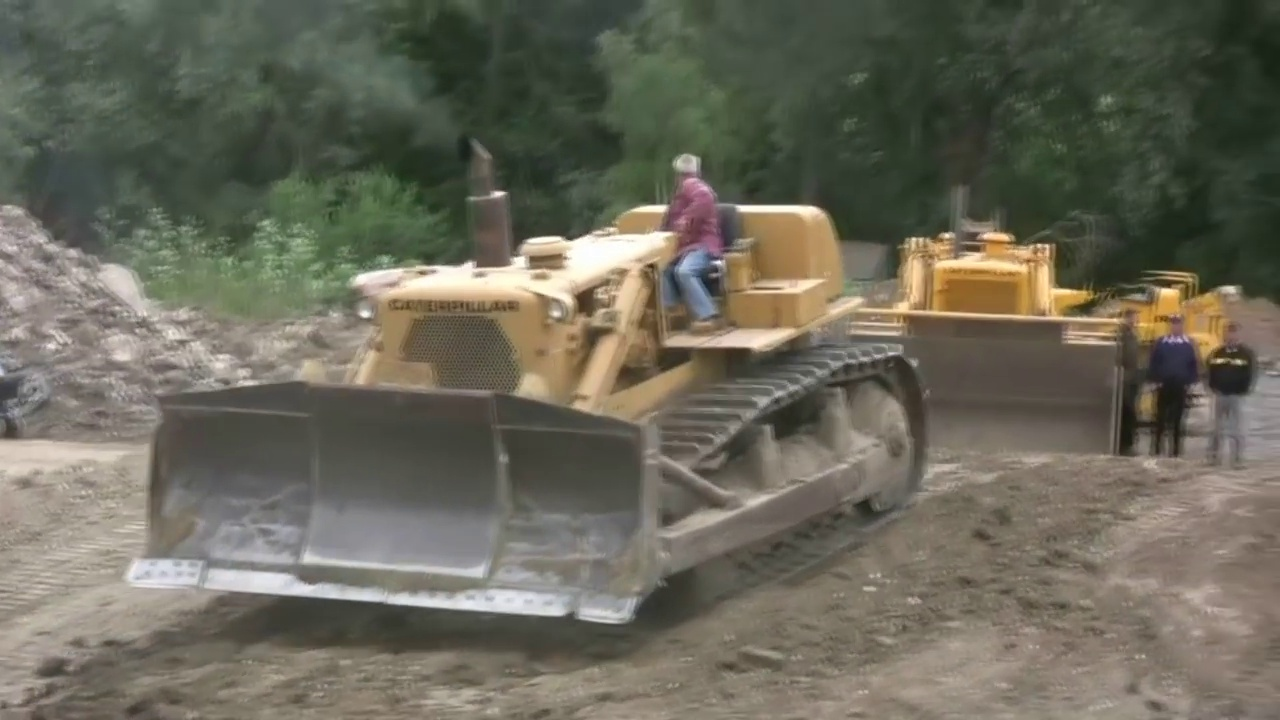bulldozer: (119, 137, 929, 632), (836, 215, 1126, 463), (1098, 252, 1224, 383)
person: (661, 147, 726, 336), (1207, 319, 1256, 470), (1148, 316, 1198, 462)
